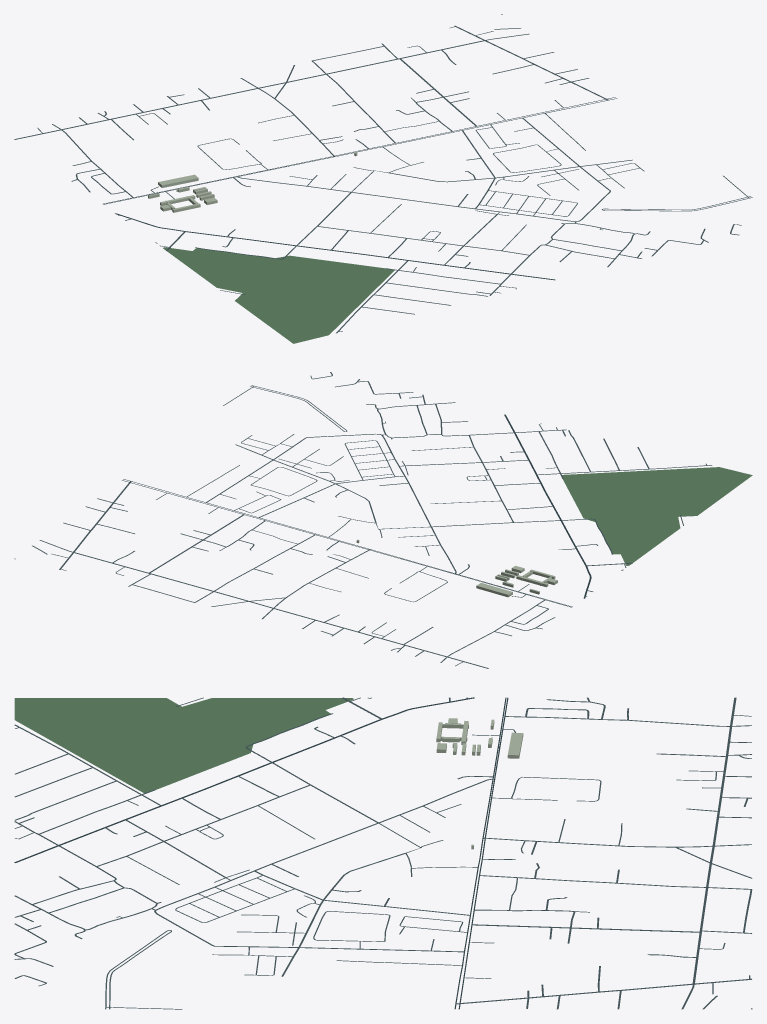
3 renders of one model, top to bottom at view 1: azimuth 30°, elevation 25°; view 2: azimuth 150°, elevation 25°; view 3: azimuth 270°, elevation 25°, orthographic. The views are drawn at different scales.
Visible parts, largest first — view 1: green, street, major, building; view 2: green, street, major, building; view 3: green, street, major, building.
Part boxes in pixels (<box>): green: <box>163,247,394,343</box>; street: <box>14,14,752,333</box>; major: <box>103,97,617,280</box>; building: <box>148,152,357,212</box>; green: <box>562,467,752,565</box>; street: <box>14,372,712,668</box>; major: <box>122,414,591,607</box>; building: <box>356,539,557,597</box>; green: <box>14,698,353,793</box>; street: <box>14,697,752,1009</box>; major: <box>14,697,508,1009</box>; building: <box>436,718,523,849</box>.
Bounding box in the file's own units: 2005 × 10.57 × 2005.
